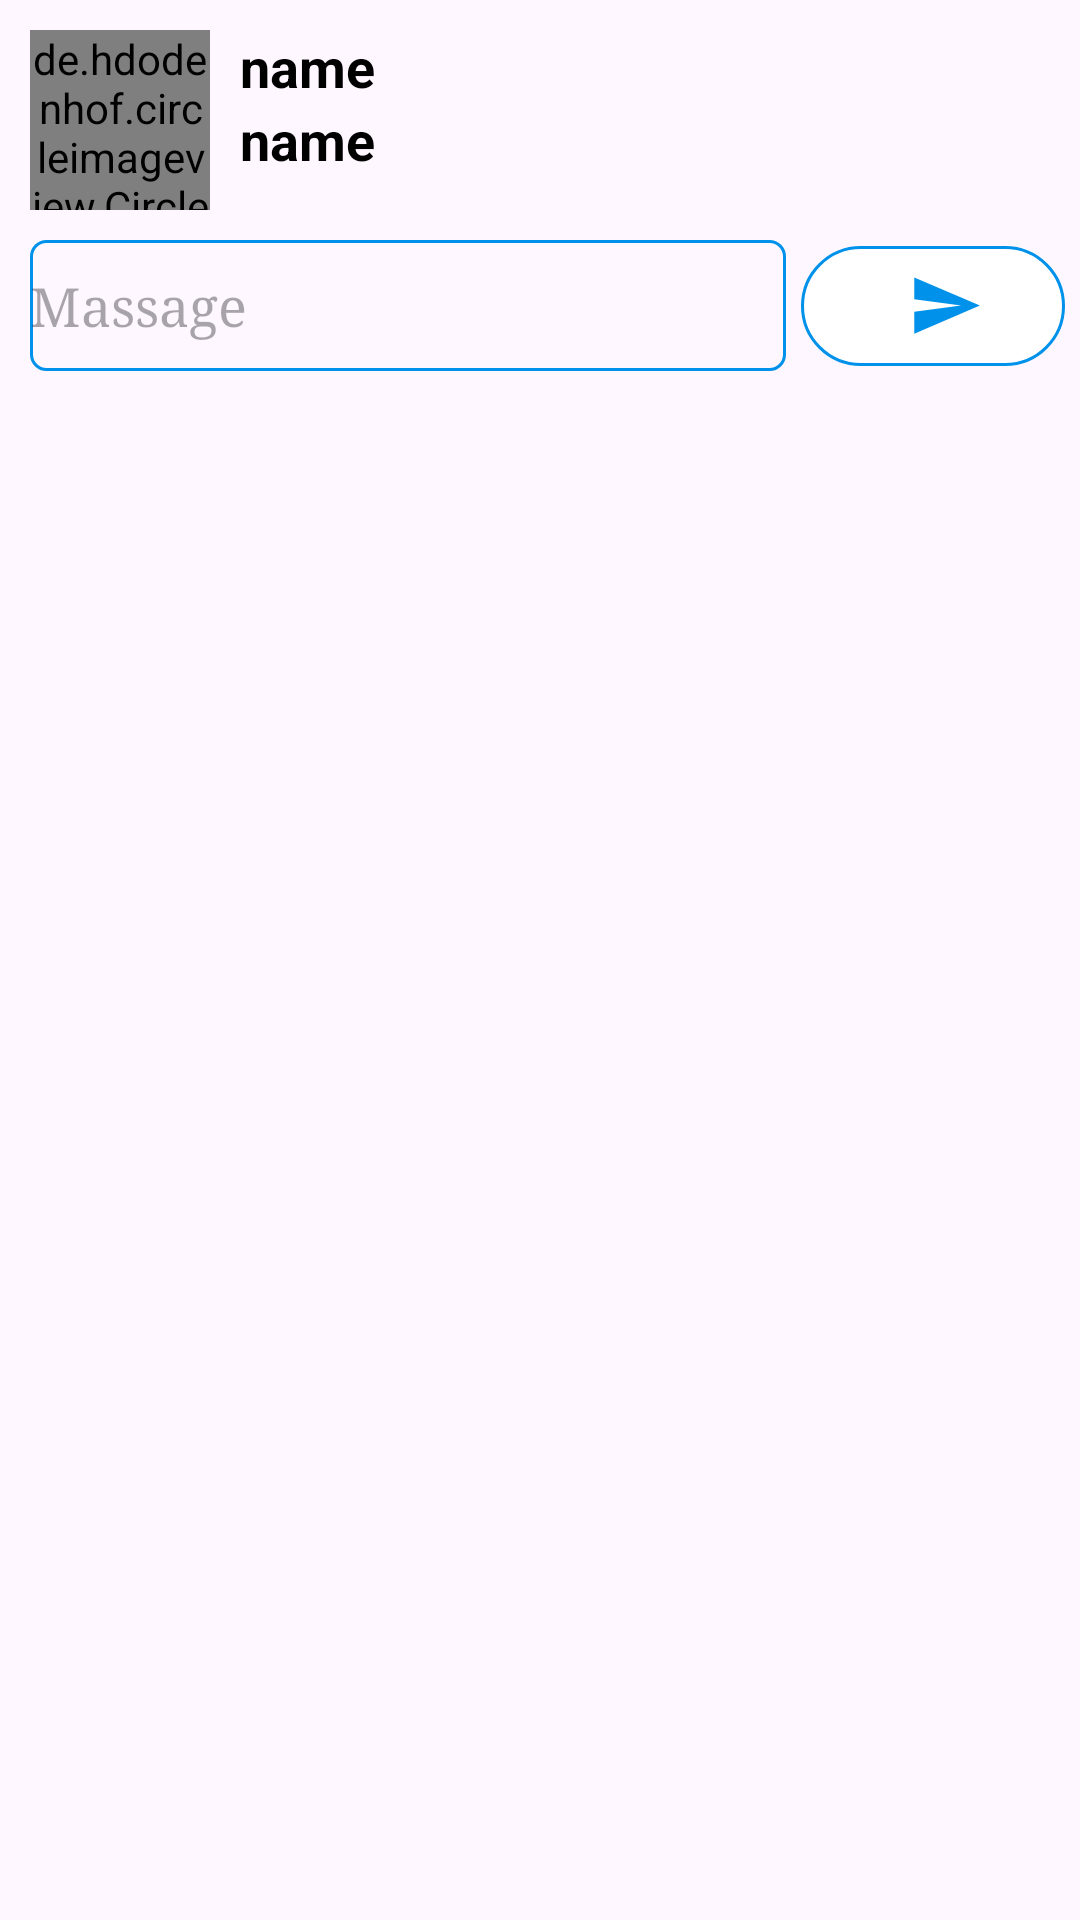

Named icons in this screenshot (1080 x 1920) and their centers, (x,y):
send: (933,306)
